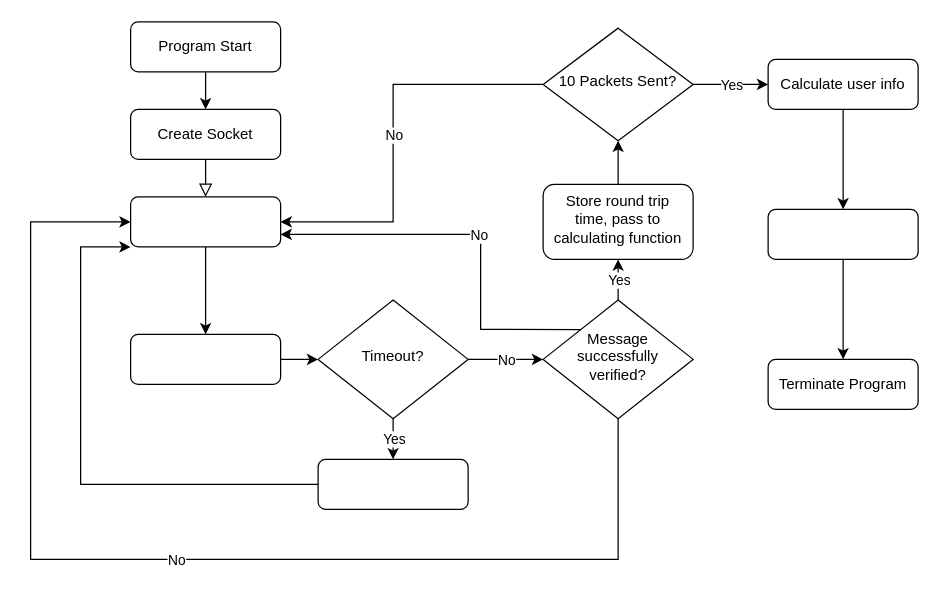
Some shapes in this 940 by 591 pixel diagram are drawn without their labels. Each missing label, with the box of its shape:
Display info to user: (767, 208, 918, 259)
Display Timeout Message: (317, 458, 468, 509)
Generate sequence number/get time: (129, 196, 281, 247)
Send packet to server: (129, 333, 281, 384)
